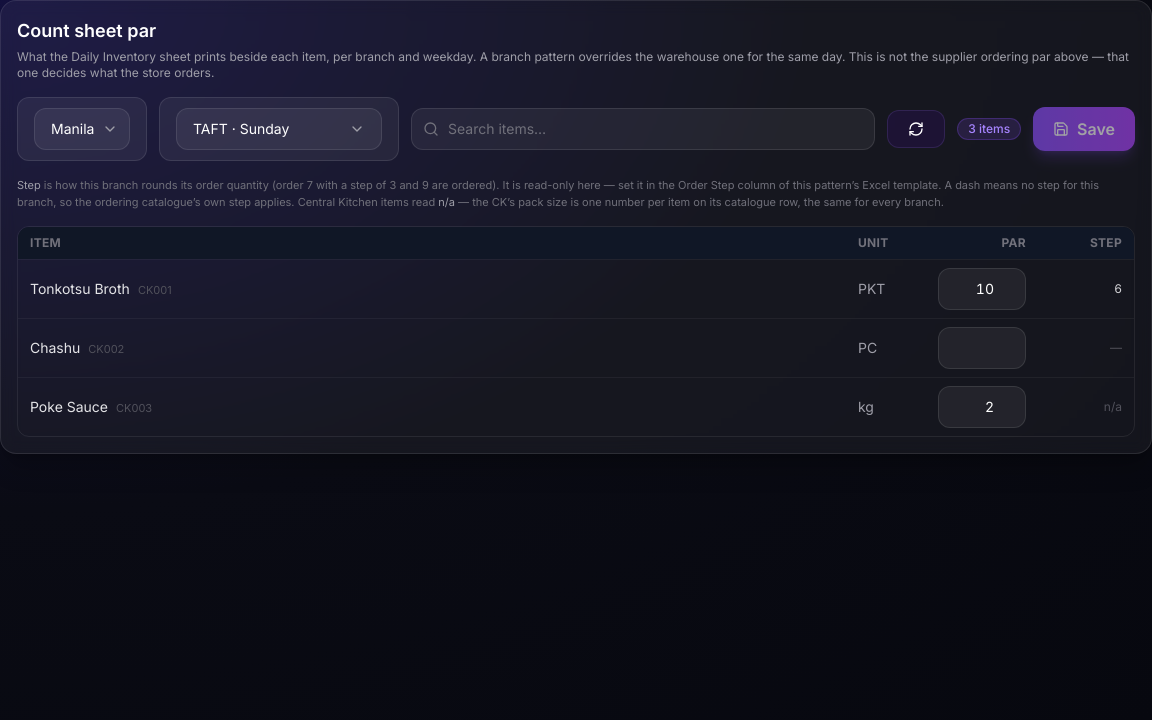
Test: count sheet par editor › reports the server's count, not the number of rows it sent
The image size is (1152, 720).
Expected: the text "Tonkotsu Broth" is shown, [30,280,130,297]
In the number field named "Par level for Chashu": point(982, 348) [938,327,1026,369], type "4"
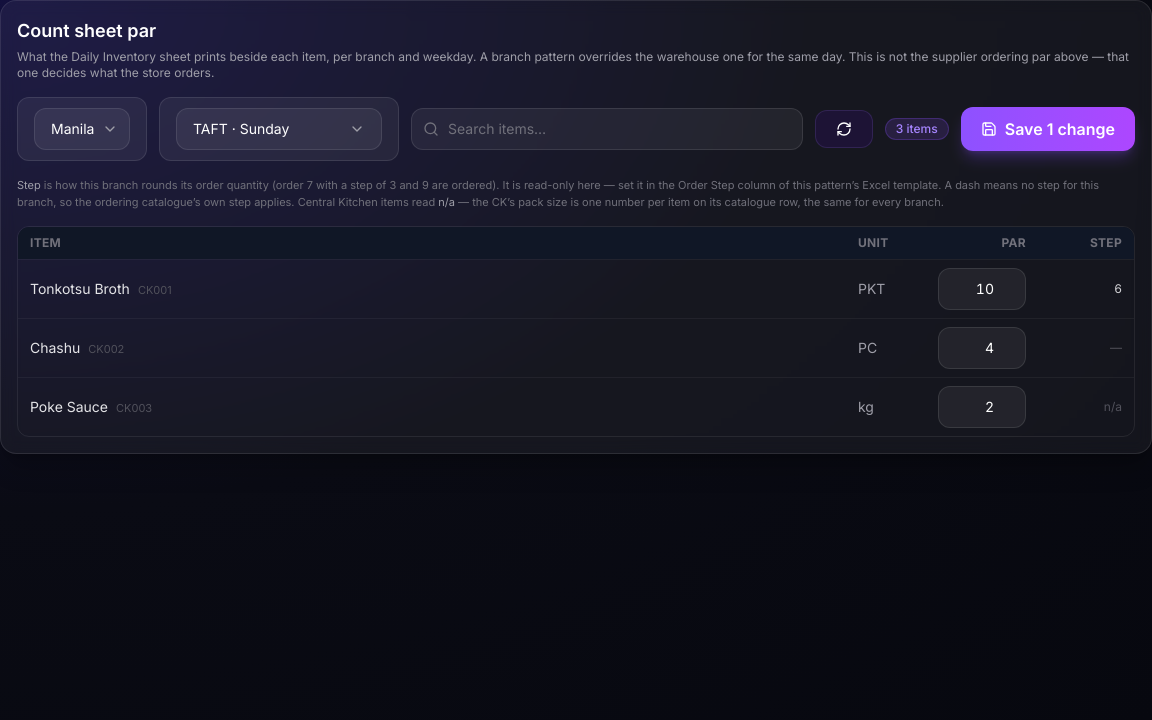
Click the button "Save 1 change": point(1048, 129) [961,107,1135,151]
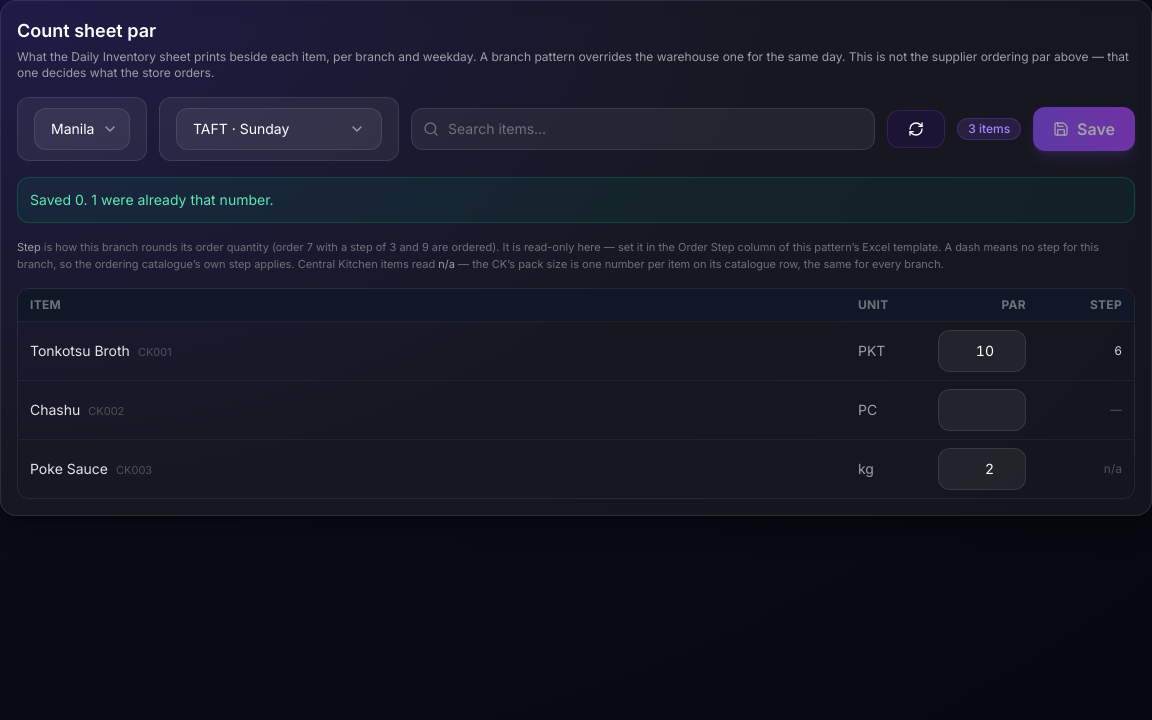
Expected: the text "Saved 0. 1 were already that number." is shown, [17,177,1135,223]
